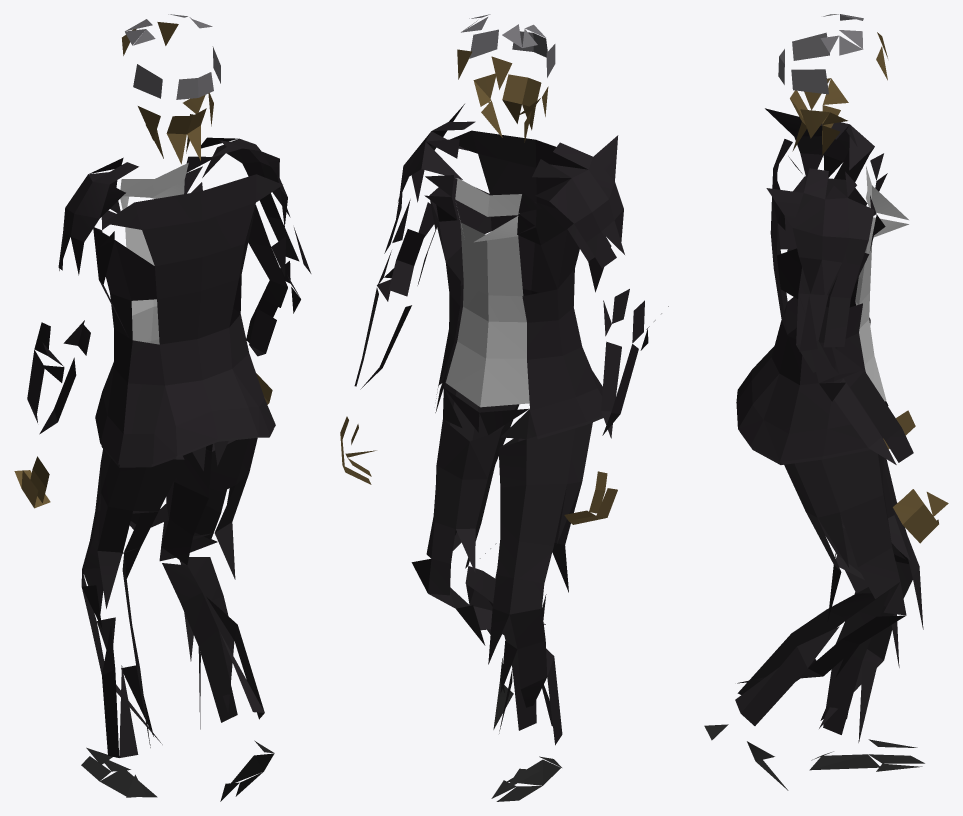
Rendered from personfar_4_w2.fbx.
The picture shows the model from 3 angles, left to right: view 1: azimuth 30°, elevation 25°; view 2: azimuth 150°, elevation 25°; view 3: azimuth 270°, elevation 25°; orthographic projection. The views are drawn at different scales.
Visible parts, largest first — view 1: BaseHuman; view 2: BaseHuman; view 3: BaseHuman.
Boxes of the visible parts, x1=… form: BaseHuman: x1=14, y1=14, x2=311, y2=801; BaseHuman: x1=340, y1=14, x2=668, y2=801; BaseHuman: x1=704, y1=14, x2=948, y2=790.
Bounding box in the file's own units: 0.3788 × 0.9764 × 0.2843.
